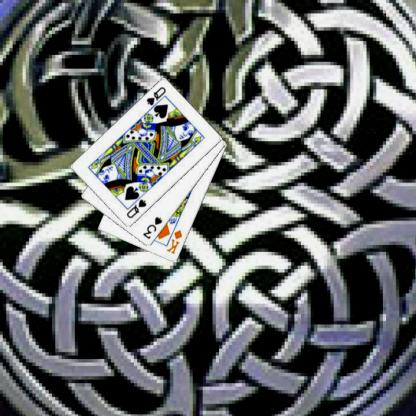3S: (140, 214, 164, 240)
KD: (164, 227, 183, 255)
QS: (124, 197, 147, 220), (144, 84, 167, 107)
